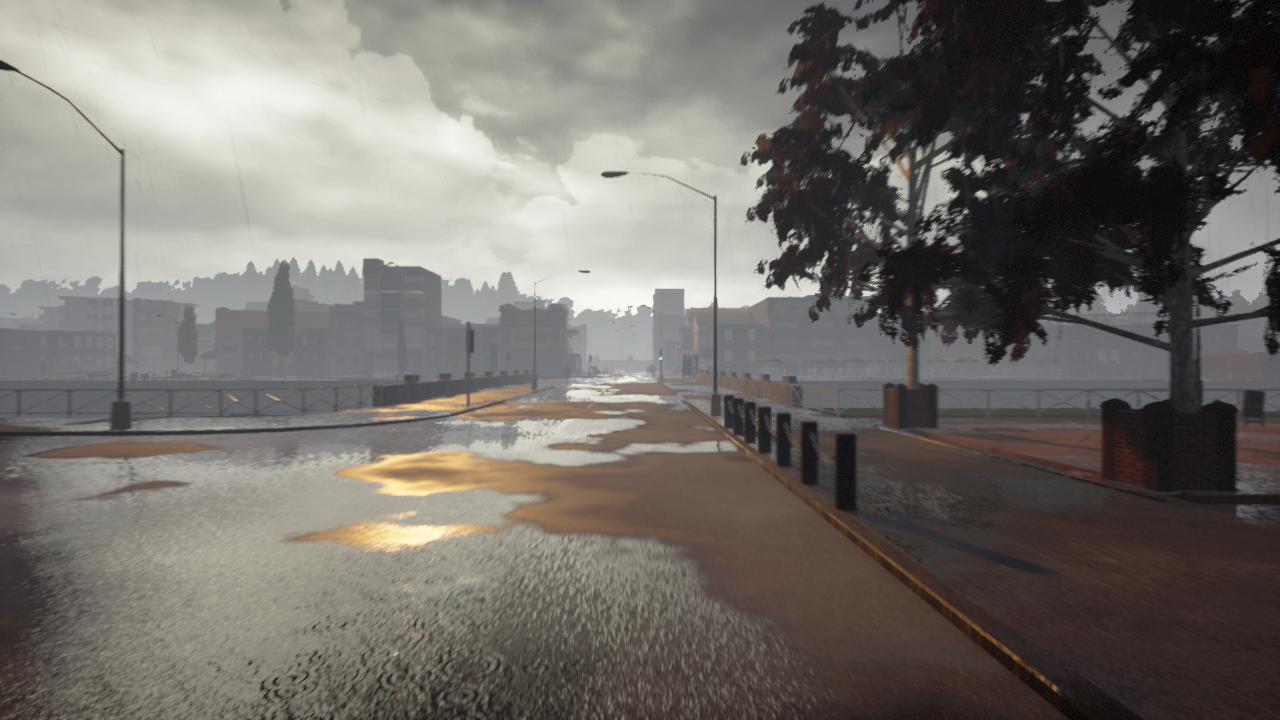green: (658, 350, 663, 362)
